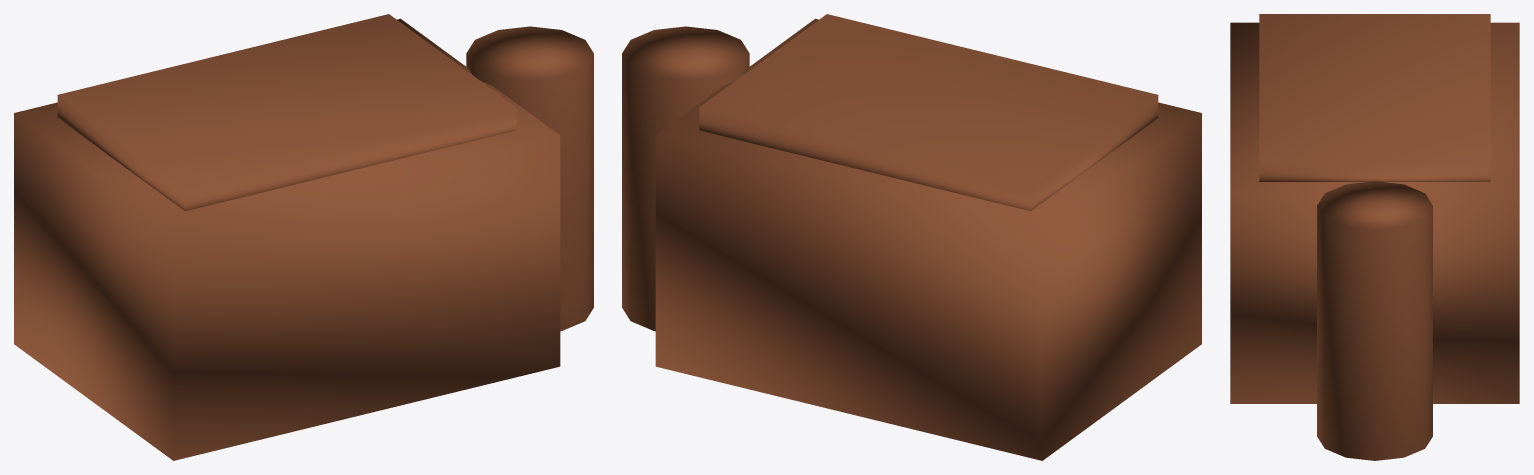
The model's file is cooked_meat.obj.
3 views of the same model, side by side, from view 1: azimuth 30°, elevation 25°; view 2: azimuth 150°, elevation 25°; view 3: azimuth 270°, elevation 25° (orthographic). The views are drawn at different scales.
Size of the model in its own units: 3.56 by 1.84 by 2.
